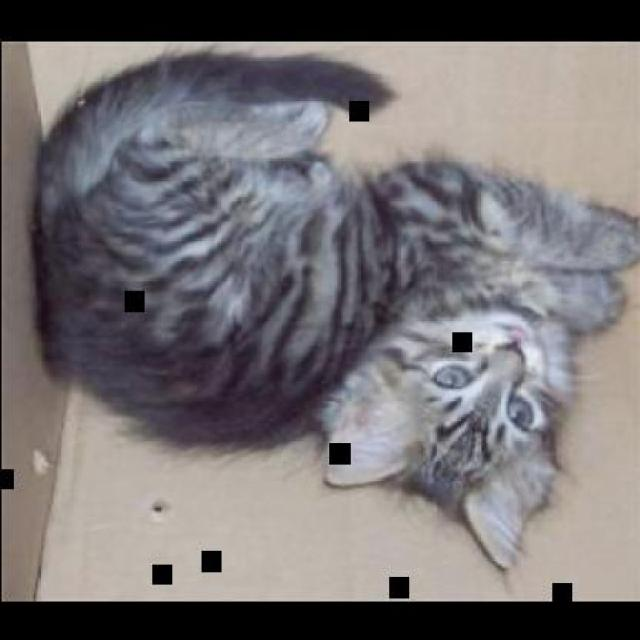unauthorized: (29, 48, 638, 570)
